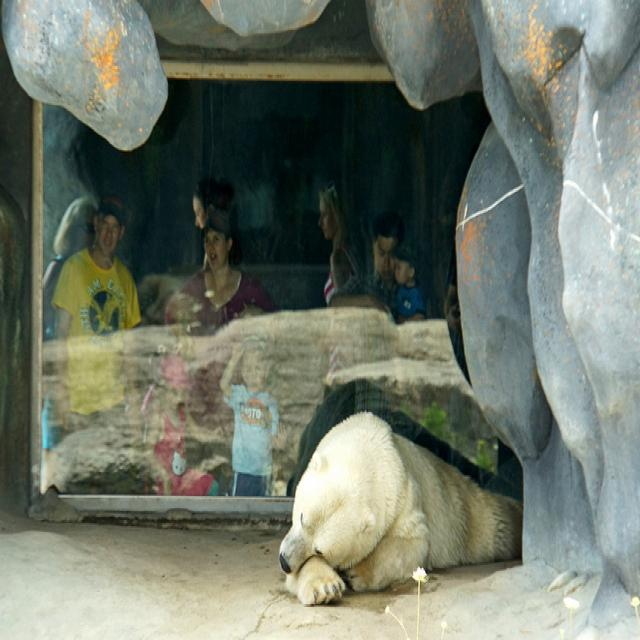Bear: (281, 385, 528, 606)
